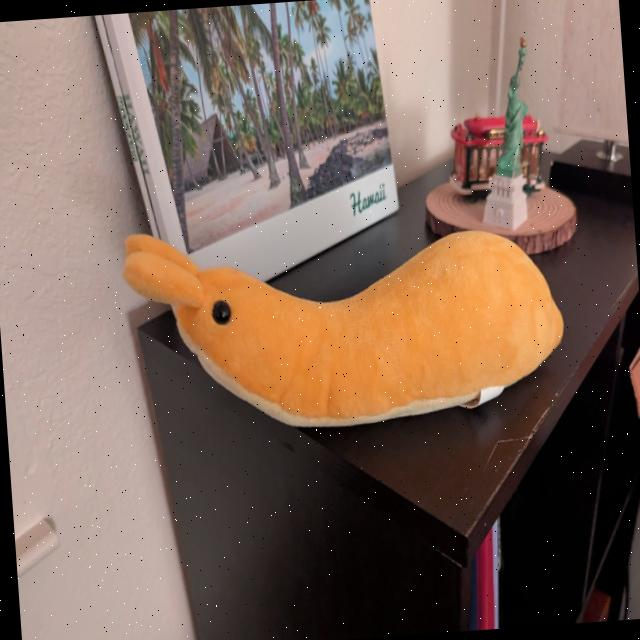banana-slug-toy: (105, 189, 592, 452)
